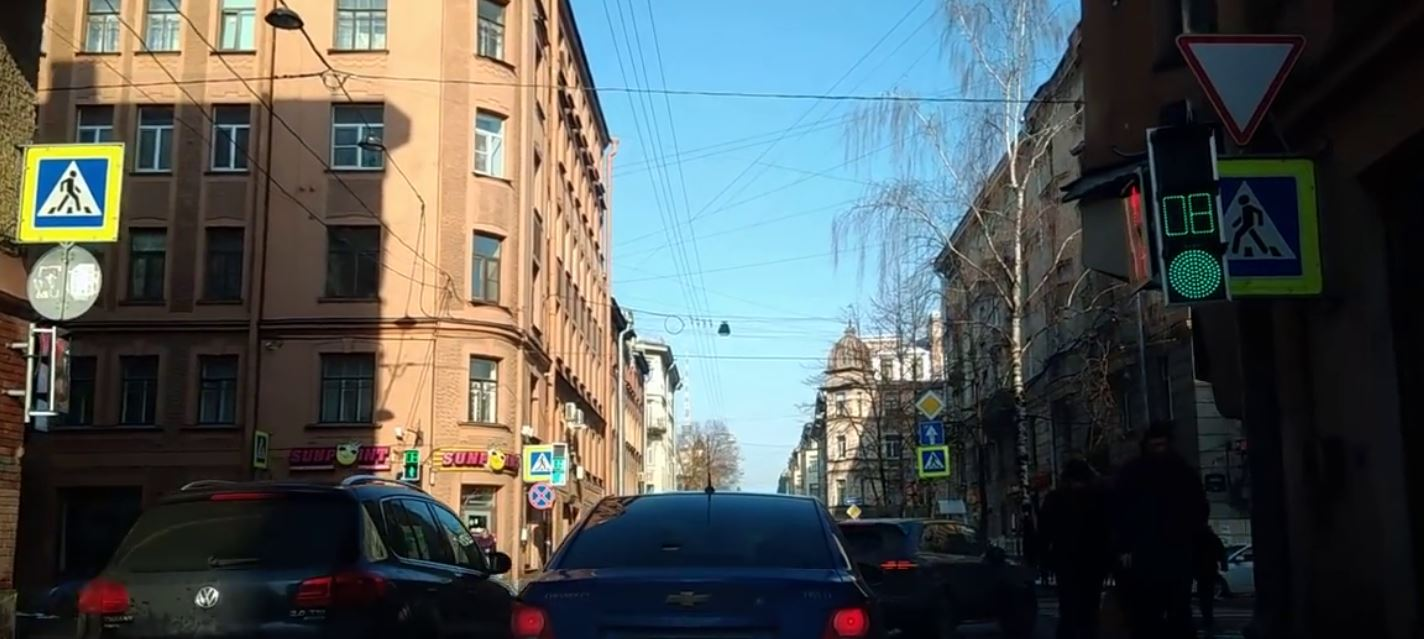Yaya Gecidi: (27, 152, 120, 230)
Yol Ver: (1181, 25, 1293, 144)
